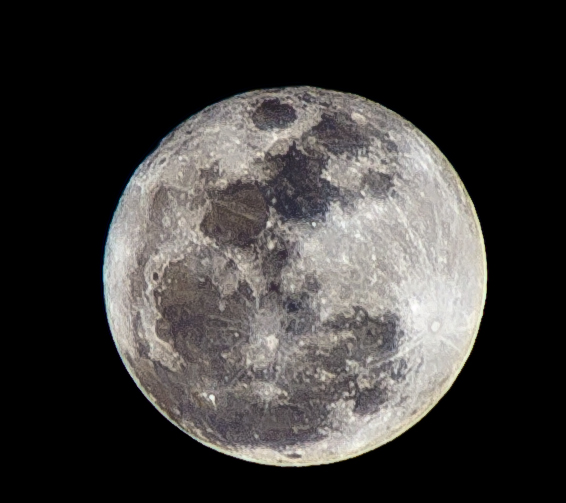crater: (375, 272, 464, 357), (244, 97, 305, 136), (256, 326, 288, 359), (346, 106, 374, 133), (278, 447, 313, 462), (213, 299, 233, 318), (147, 263, 166, 282), (305, 215, 323, 233)
